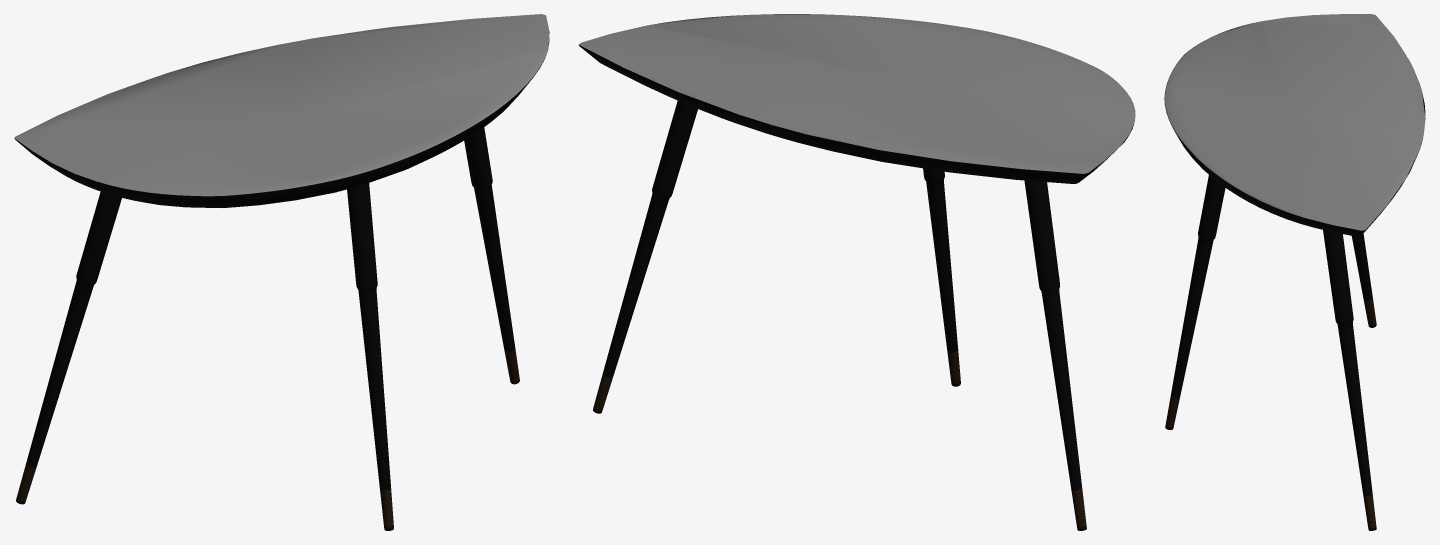
The model's file is Lovbachen_LOW.fbx.
The picture shows the model from 3 angles, left to right: view 1: azimuth 30°, elevation 25°; view 2: azimuth 150°, elevation 25°; view 3: azimuth 270°, elevation 25°; orthographic projection. The views are drawn at different scales.
Parts seen in each view (by area): view 1: Shape002, Cylinder058, Cylinder057, Cylinder056; view 2: Shape002, Cylinder057, Cylinder056, Cylinder058; view 3: Shape002, Cylinder056, Cylinder058, Cylinder057.
Part boxes in pixels (x1,y1,x2,y2): Shape002: [14, 14, 549, 207]; Cylinder058: [347, 183, 393, 530]; Cylinder057: [16, 191, 121, 504]; Cylinder056: [464, 127, 519, 384]; Shape002: [579, 14, 1135, 183]; Cylinder057: [1024, 180, 1086, 530]; Cylinder056: [593, 100, 697, 413]; Cylinder058: [923, 168, 960, 386]; Shape002: [1164, 14, 1425, 236]; Cylinder056: [1323, 230, 1376, 530]; Cylinder058: [1165, 175, 1225, 429]; Cylinder057: [1351, 233, 1376, 327].
Size of the model in its own units: 76.18 by 50.87 by 38.74.
